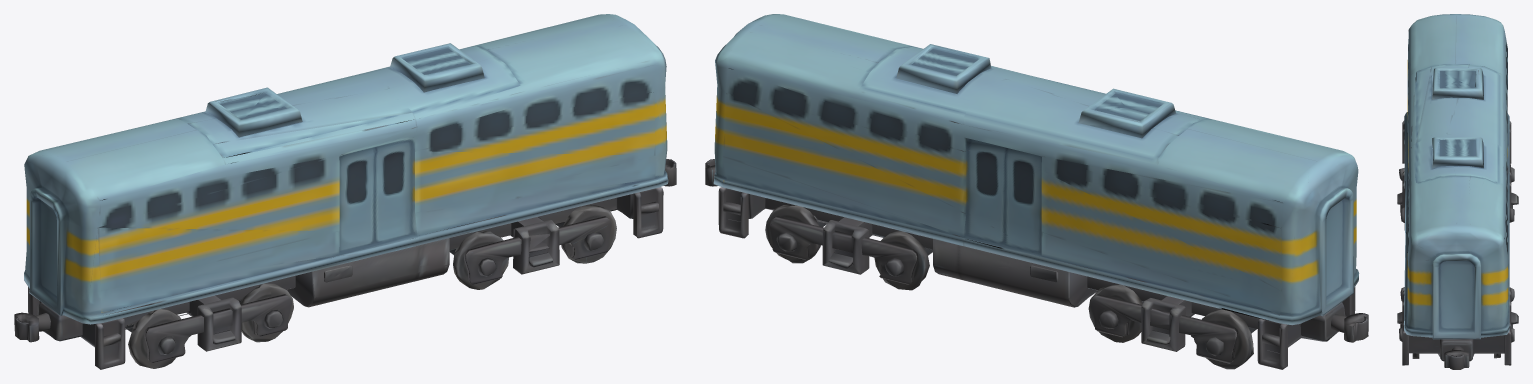
Rendered from train_wagon_passenger.glb.
3 renders of one model, left to right at view 1: azimuth 30°, elevation 25°; view 2: azimuth 150°, elevation 25°; view 3: azimuth 270°, elevation 25°, orthographic. The views are drawn at different scales.
Visible parts, largest first — view 1: geometry_0; view 2: geometry_0; view 3: geometry_0.
Boxes of the visible parts, x1=… form: geometry_0: x1=14, y1=14, x2=676, y2=369; geometry_0: x1=705, y1=14, x2=1368, y2=369; geometry_0: x1=1397, y1=14, x2=1518, y2=369.
Size of the model in its own units: 0.9575 by 0.2944 by 0.1997.
1 material, 1 textured.
